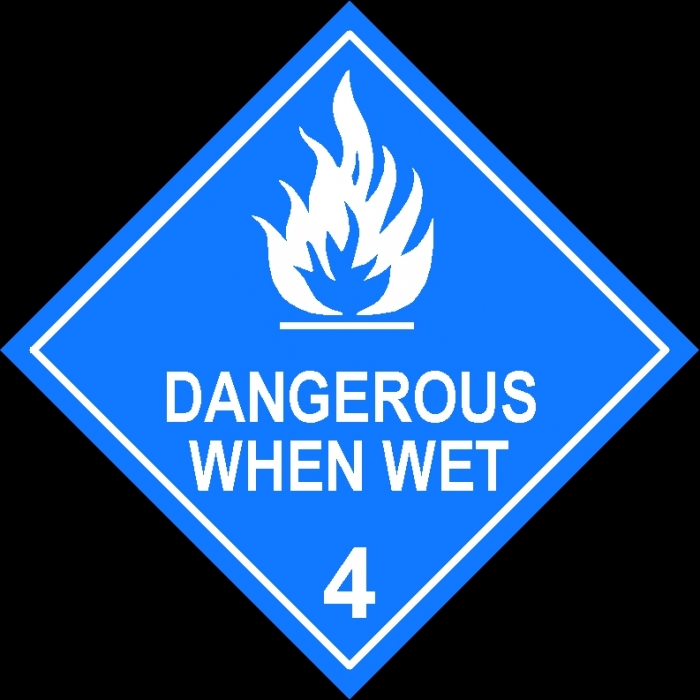DangerousWhenWet: (30, 28, 679, 679)
